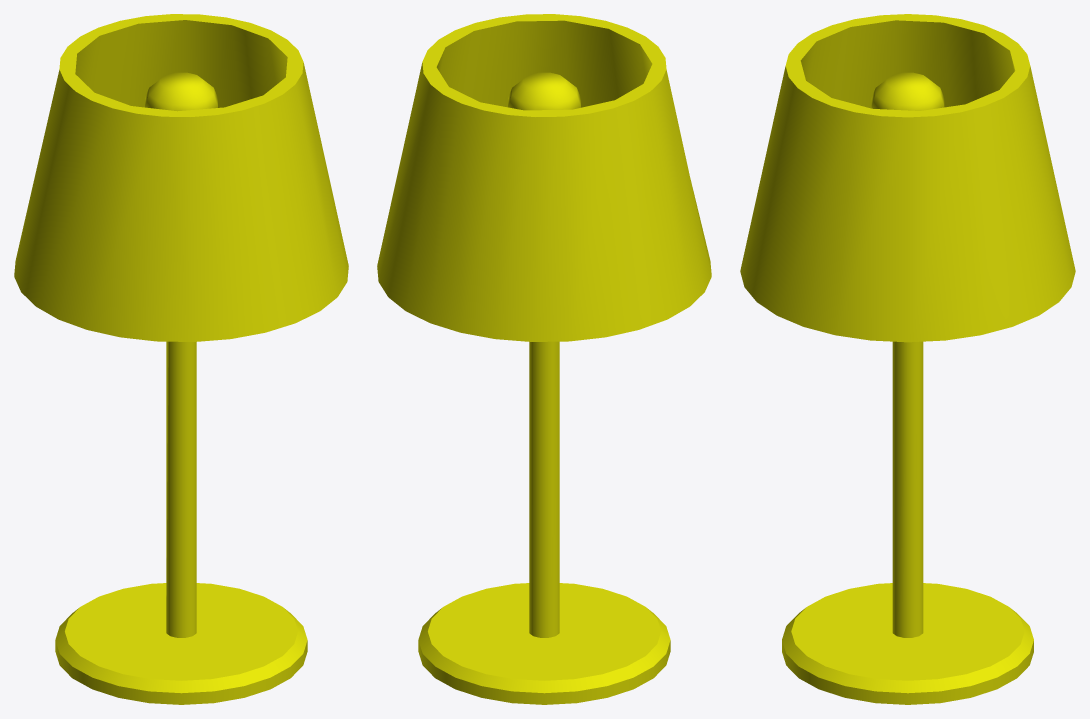
3 views of the same model, side by side, from view 1: azimuth 30°, elevation 25°; view 2: azimuth 150°, elevation 25°; view 3: azimuth 270°, elevation 25° (orthographic).
Visible parts, largest first — view 1: Lamp; view 2: Lamp; view 3: Lamp.
Part boxes in pixels (x1,y1,x2,y2): Lamp: (14, 14, 348, 704); Lamp: (377, 14, 711, 704); Lamp: (740, 14, 1075, 704).
Bounding box in the file's own units: 0.00684 × 0.0132 × 0.00684.
Materials: 1 (1 with a texture image).
